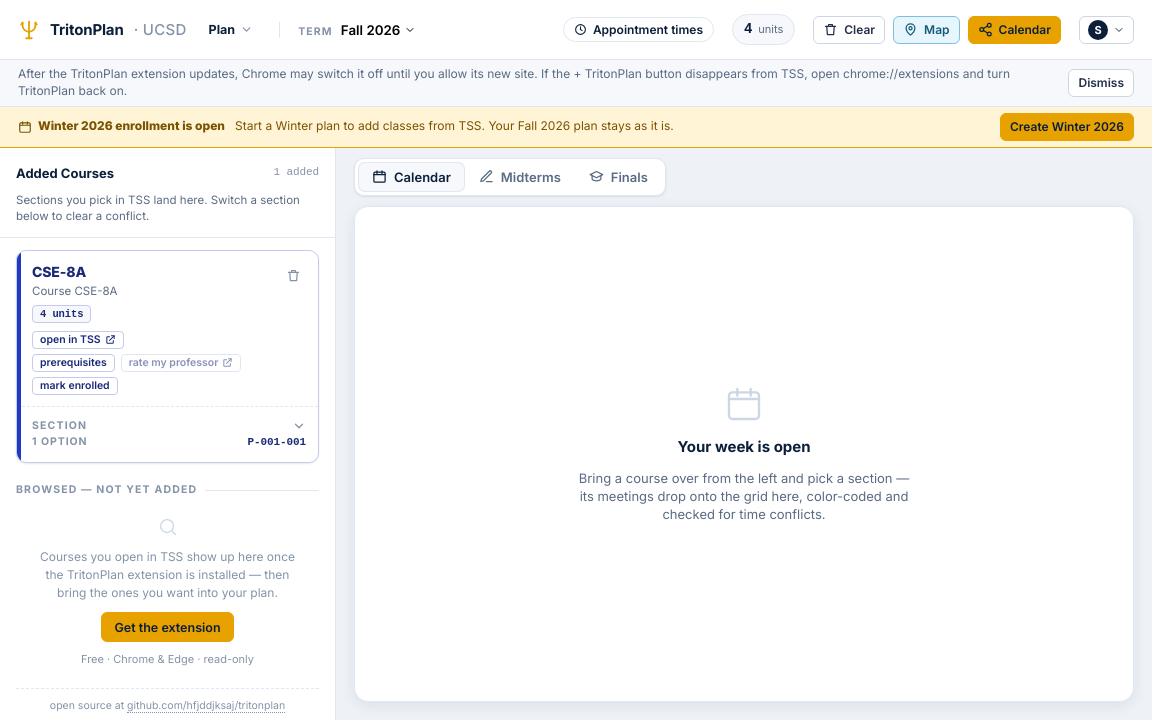
Test: App → the next term's enrollment bar › shows on a Fall-with-courses account; its button creates Winter, opens it and the bar goes
Expected: the message with class "received--active" is shown, [0,107,1151,148]
Click the button "Create Winter 2026" at (1067, 127), box [1000,113,1134,141]
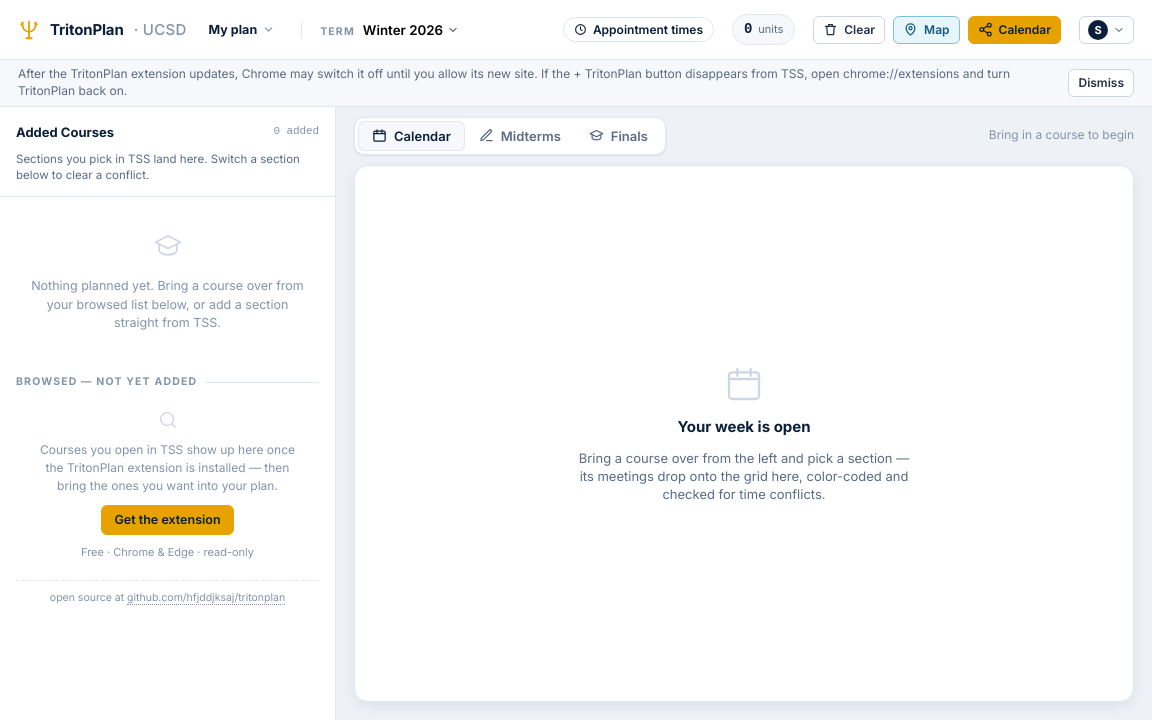
Expected: the element with class "topbar__term-label" reads "Winter 2026", [363,22,443,38]
